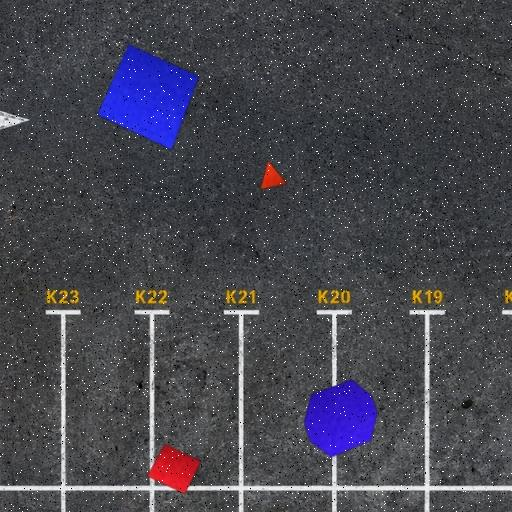BLUE_SQUARE: (97, 44, 200, 150)
RED_SQUARE: (146, 443, 202, 495)
